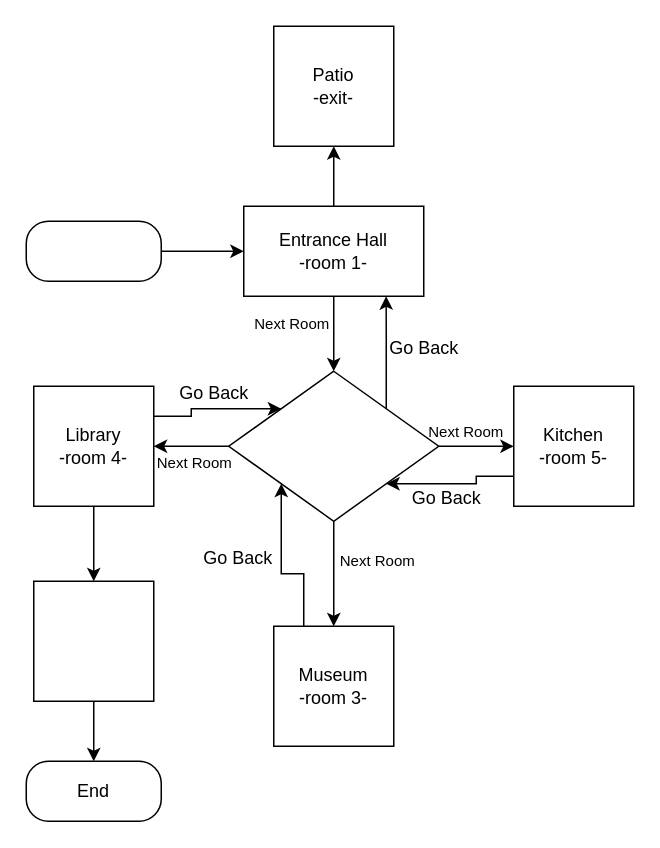
Some shapes in this 660 by 848 pixel diagram are drawn without their labels. The centre of each missing label's shape, as x and y in pixels:
"Museum Hallway -room 2-" goes at pixel 333 445.
"Secret Room -only appear after 5 visits to library-" goes at pixel 93 640.
"Start" goes at pixel 93 250.
